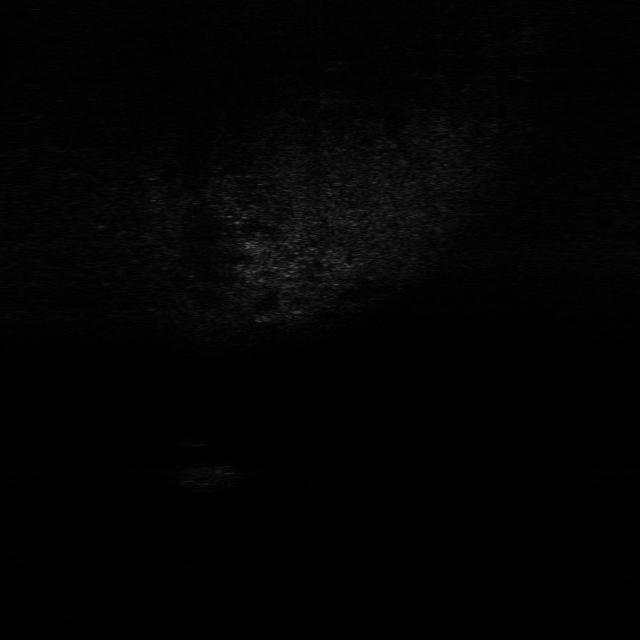ball: (170, 420, 214, 448)
circle cage: (177, 455, 252, 496)
